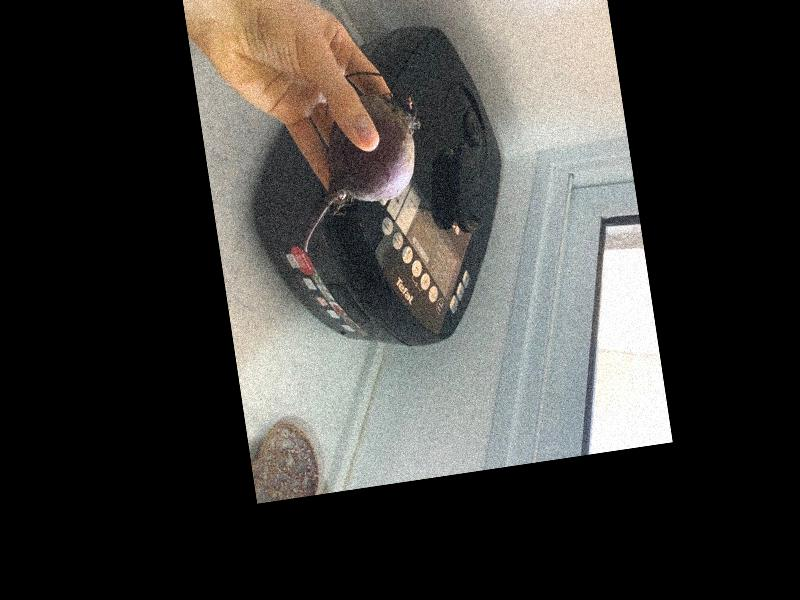Beet: (278, 66, 436, 252)
